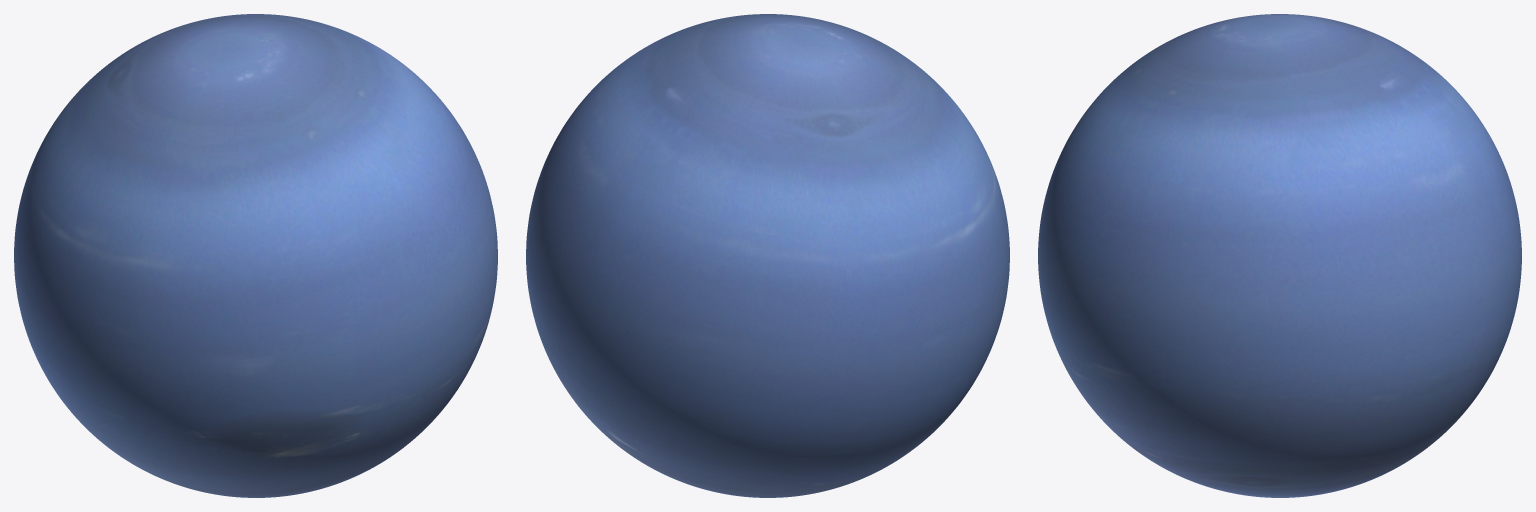
Rendered from neptune.obj.
The picture shows the model from 3 angles, left to right: view 1: azimuth 30°, elevation 25°; view 2: azimuth 150°, elevation 25°; view 3: azimuth 270°, elevation 25°; orthographic projection.
Visible parts, largest first — view 1: Moon_Sphere.001; view 2: Moon_Sphere.001; view 3: Moon_Sphere.001.
Boxes of the visible parts, x1=… form: Moon_Sphere.001: x1=14, y1=14, x2=497, y2=497; Moon_Sphere.001: x1=526, y1=14, x2=1009, y2=497; Moon_Sphere.001: x1=1038, y1=14, x2=1521, y2=497.
Bounding box in the file's own units: 2 × 2 × 2.
Materials: 1 (1 with a texture image).
